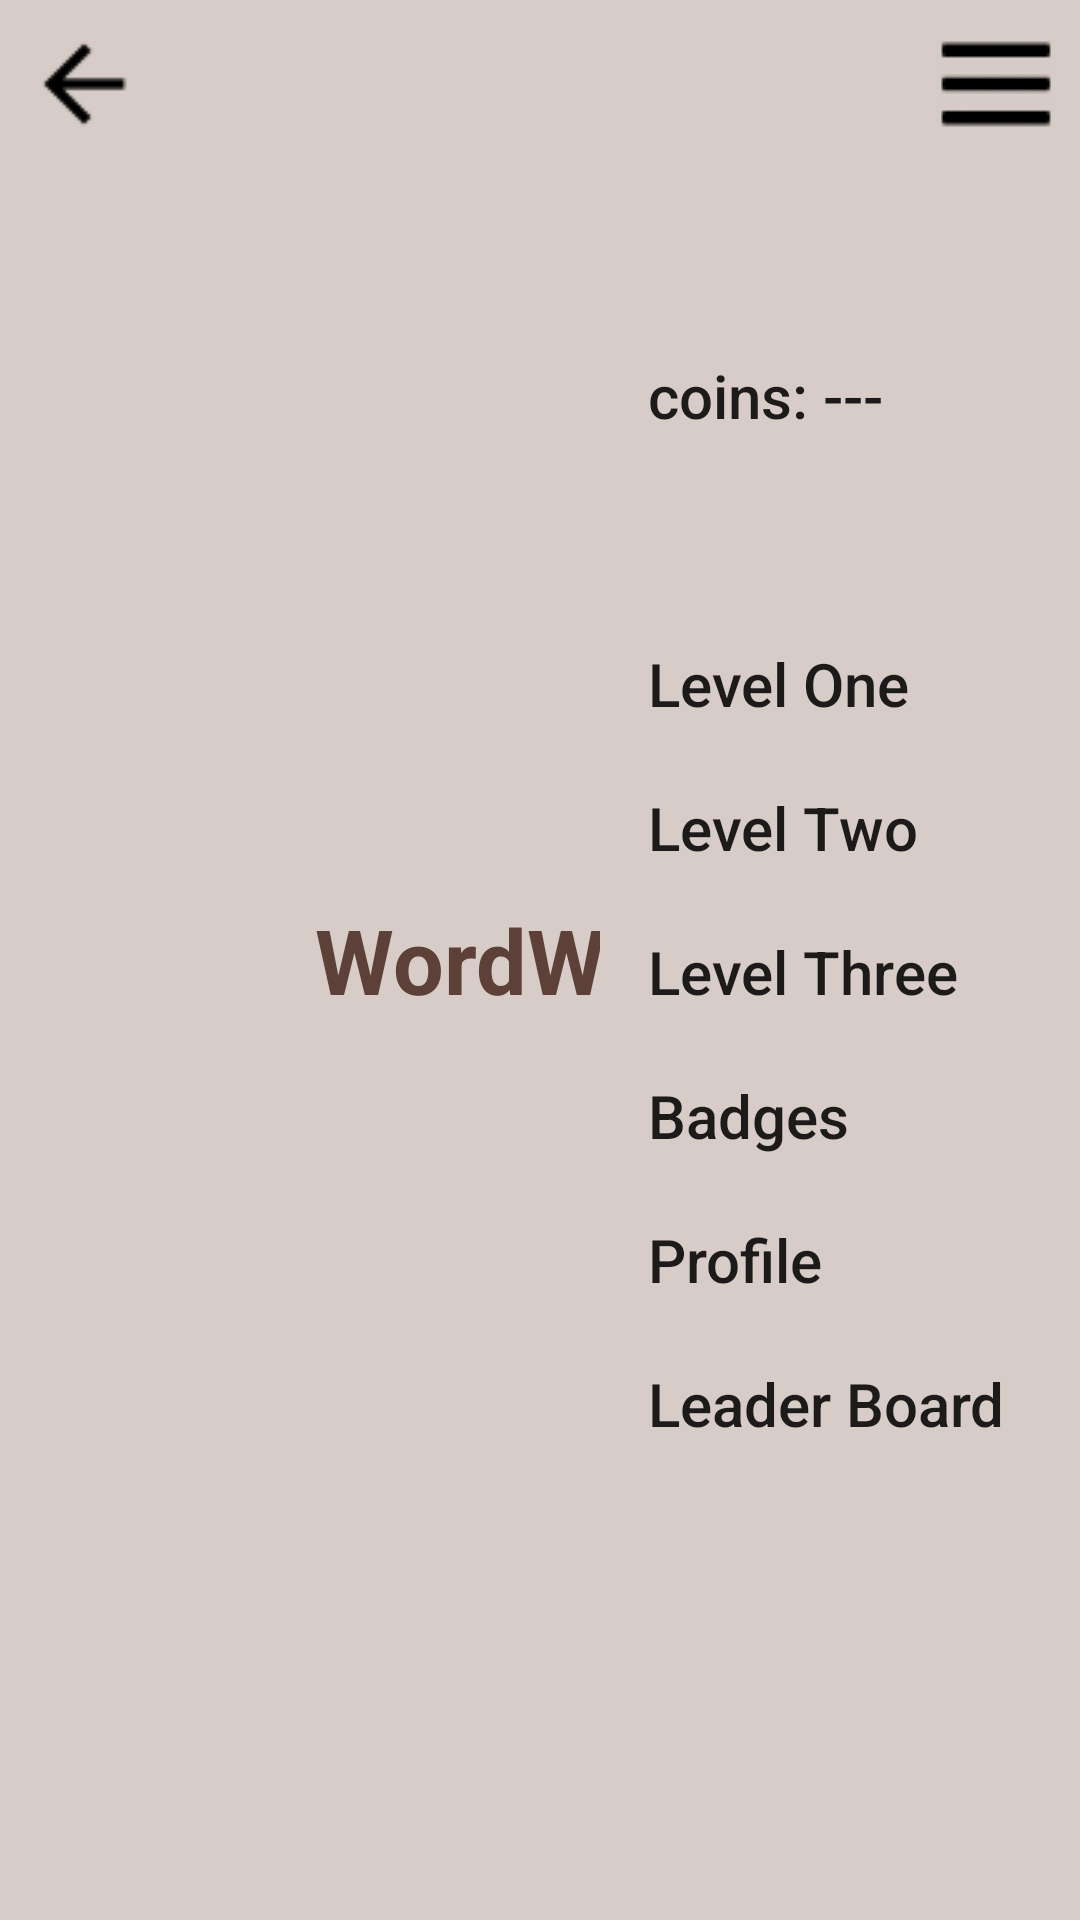

Named icons in this screenshot (1080px x 1920px) and their centers, (x=x, y=y):
Back: (x=85, y=84)
Navigation: (x=996, y=84)
